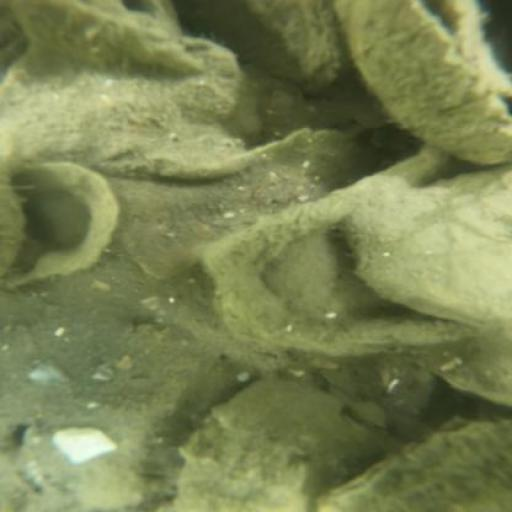Oyster-Closed: (3, 41, 243, 177), (341, 1, 512, 166), (173, 381, 383, 512), (2, 392, 160, 512), (318, 425, 512, 511), (10, 1, 205, 72), (199, 2, 344, 89), (398, 340, 512, 410)
Oyster-Open: (343, 166, 512, 330)
